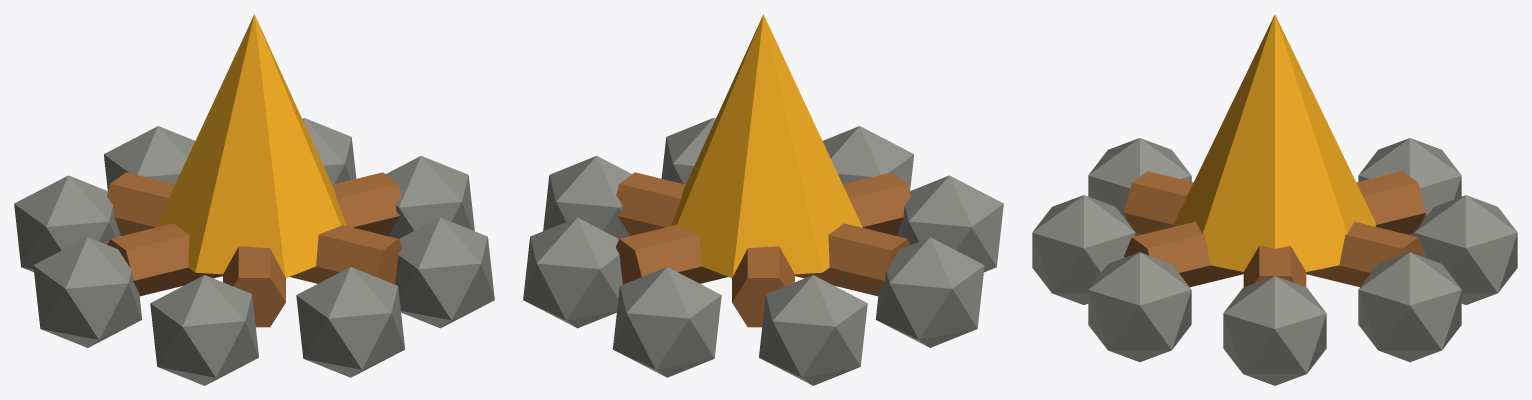
Rendered from Campfire.fbx.
3 views of the same model, side by side, from view 1: azimuth 30°, elevation 25°; view 2: azimuth 150°, elevation 25°; view 3: azimuth 270°, elevation 25° (orthographic).
Parts seen in each view (by area): view 1: Campfire; view 2: Campfire; view 3: Campfire.
Part boxes in pixels (left/top/right/bottom): Campfire: left=14, top=14, right=494, bottom=385; Campfire: left=523, top=14, right=1003, bottom=385; Campfire: left=1032, top=14, right=1517, bottom=385.
Bounding box in the file's own units: 2.83 × 1.85 × 2.8.
1 material, 1 textured.
